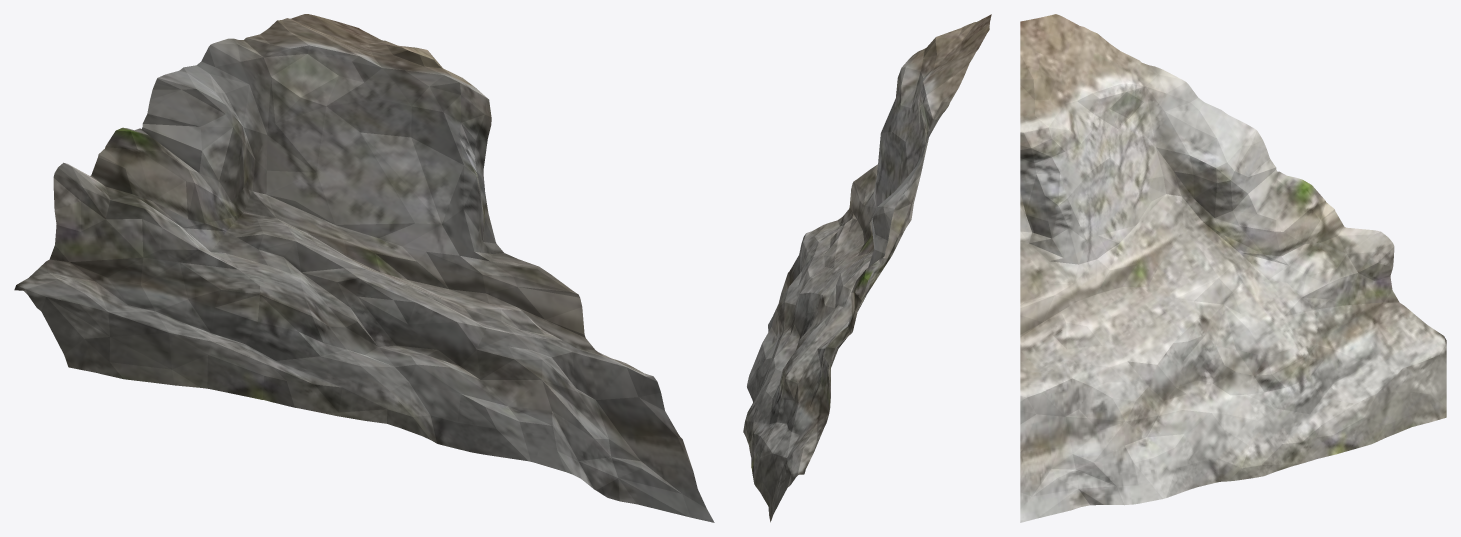
3 renders of one model, left to right at view 1: azimuth 30°, elevation 25°; view 2: azimuth 150°, elevation 25°; view 3: azimuth 270°, elevation 25°, orthographic. The views are drawn at different scales.
Size of the model in its own units: 2.01 by 2.95 by 2.95.
Materials: 2 (2 with a texture image).
